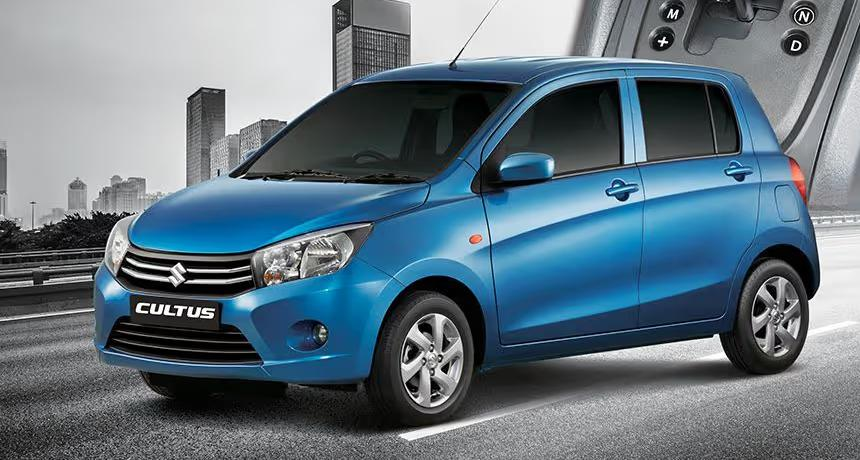Hatchback: (79, 39, 830, 411)
